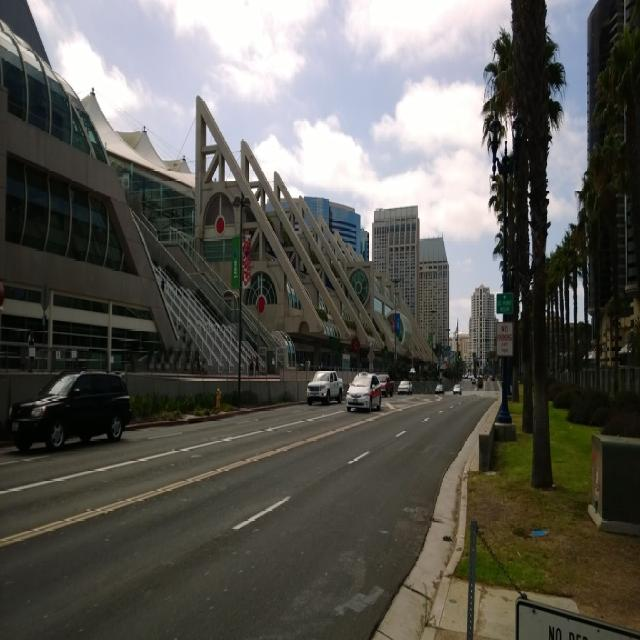car: (7, 366, 131, 452), (304, 368, 341, 406), (345, 369, 380, 408), (397, 376, 411, 394), (451, 384, 461, 396), (436, 381, 445, 393)
